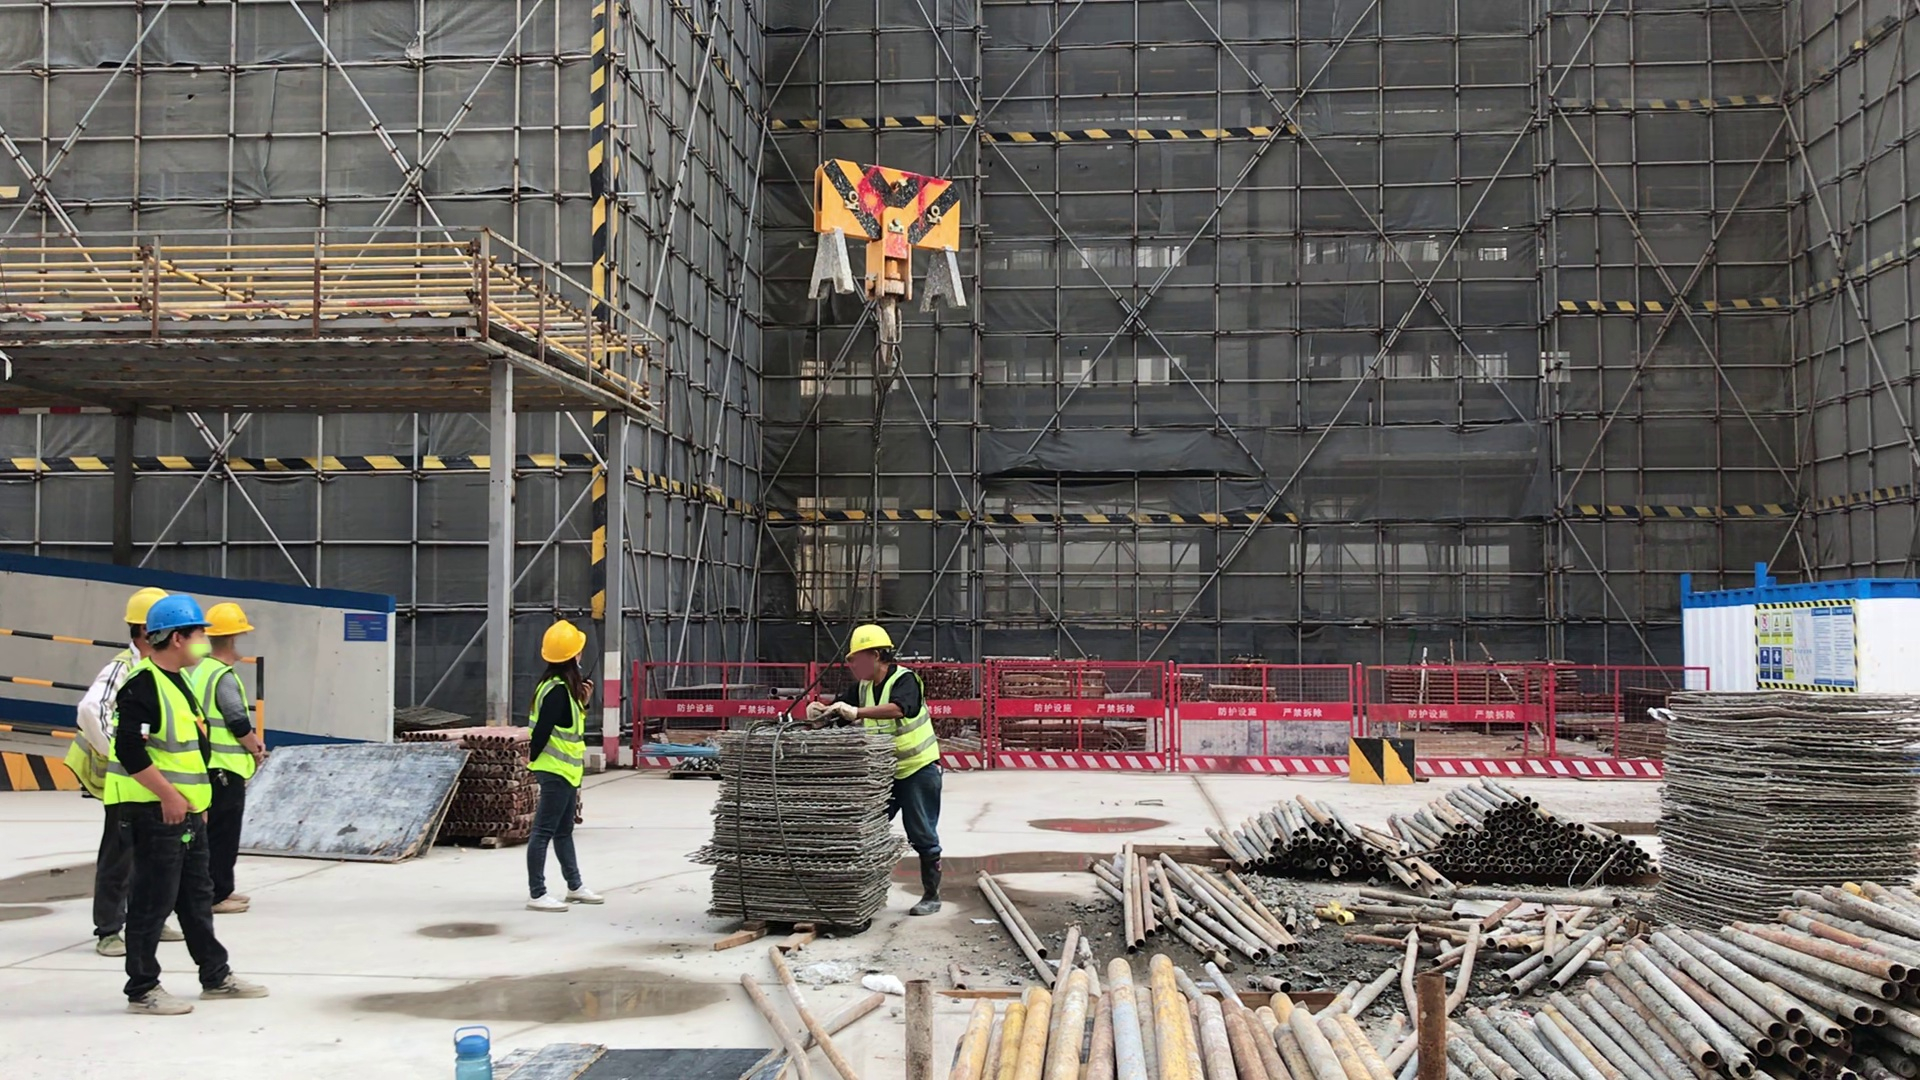fence: (635, 666, 1713, 779)
helmet: (147, 592, 208, 638), (536, 618, 586, 664), (200, 601, 252, 637), (843, 622, 898, 656), (124, 585, 165, 623)
hook: (811, 156, 969, 368)
person: (112, 604, 270, 1016), (66, 586, 186, 957), (806, 623, 944, 916), (526, 620, 605, 912), (187, 602, 254, 915)
scaffold: (1661, 692, 1920, 918), (712, 722, 893, 938), (462, 724, 533, 845)
vest: (113, 661, 216, 812), (852, 669, 942, 780), (189, 653, 259, 779), (527, 677, 586, 787)
